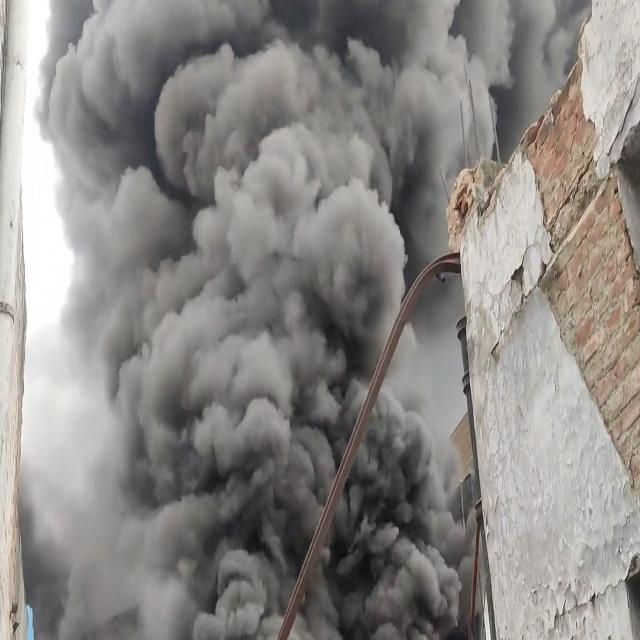Smoke: (46, 0, 596, 640), (291, 267, 480, 640)
